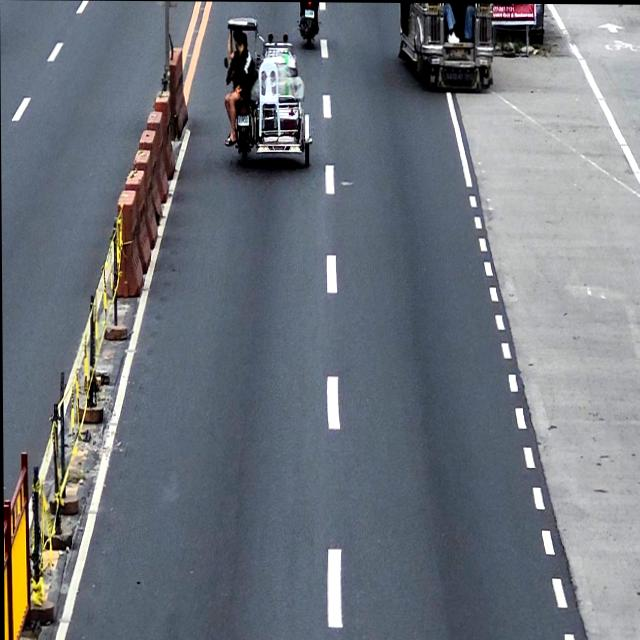Jeep: (399, 2, 494, 94)
License-Plate: (447, 48, 467, 60), (237, 116, 249, 126), (305, 8, 315, 18)
Motorcycle: (298, 2, 320, 46)
Tricycle: (223, 16, 313, 168)
